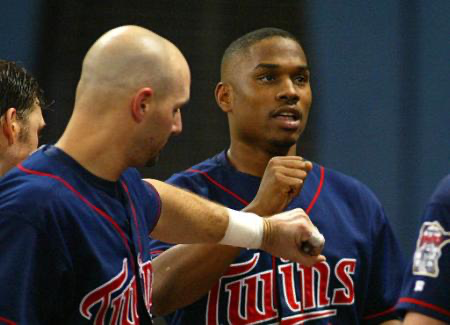Face: (241, 54, 316, 151), (130, 62, 189, 171)
